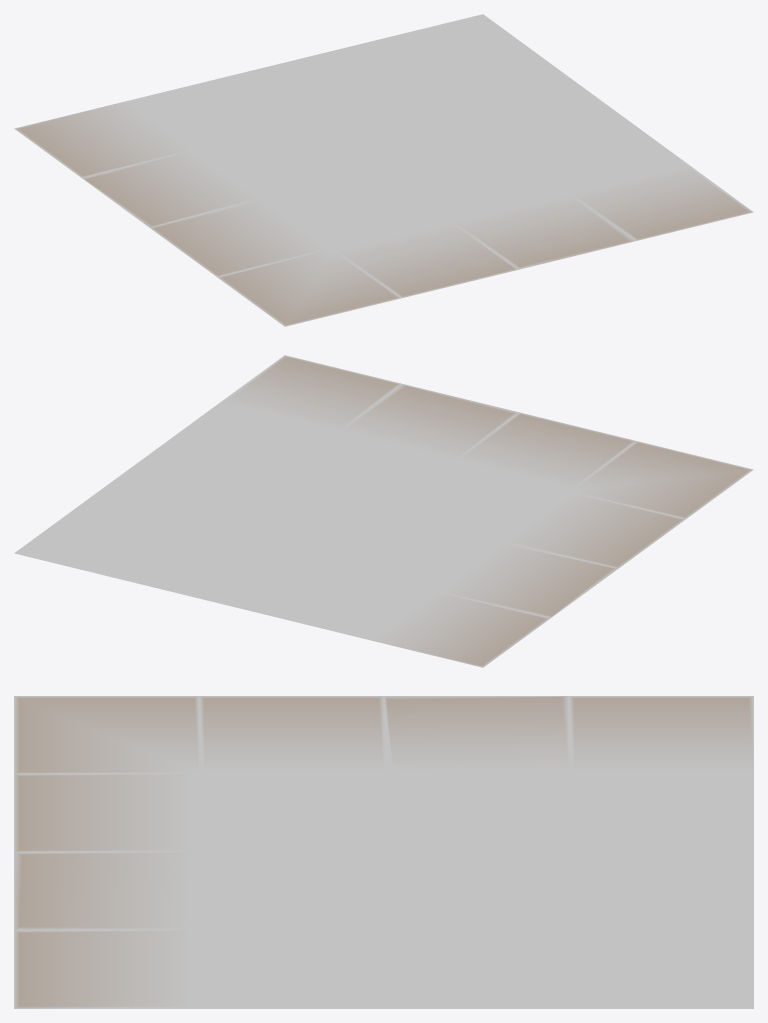
File: NF_Env_Pavement 03.fbx
3 views of the same model, one above another, from view 1: azimuth 30°, elevation 25°; view 2: azimuth 150°, elevation 25°; view 3: azimuth 270°, elevation 25° (orthographic). The views are drawn at different scales.
Visible parts, largest first — view 1: Pavement 3; view 2: Pavement 3; view 3: Pavement 3.
Part boxes in pixels (x1,y1,x2,y2): Pavement 3: (14, 14, 753, 326); Pavement 3: (14, 355, 753, 667); Pavement 3: (14, 696, 753, 1008).
Bounding box in the file's own units: 5 × 0 × 5.
